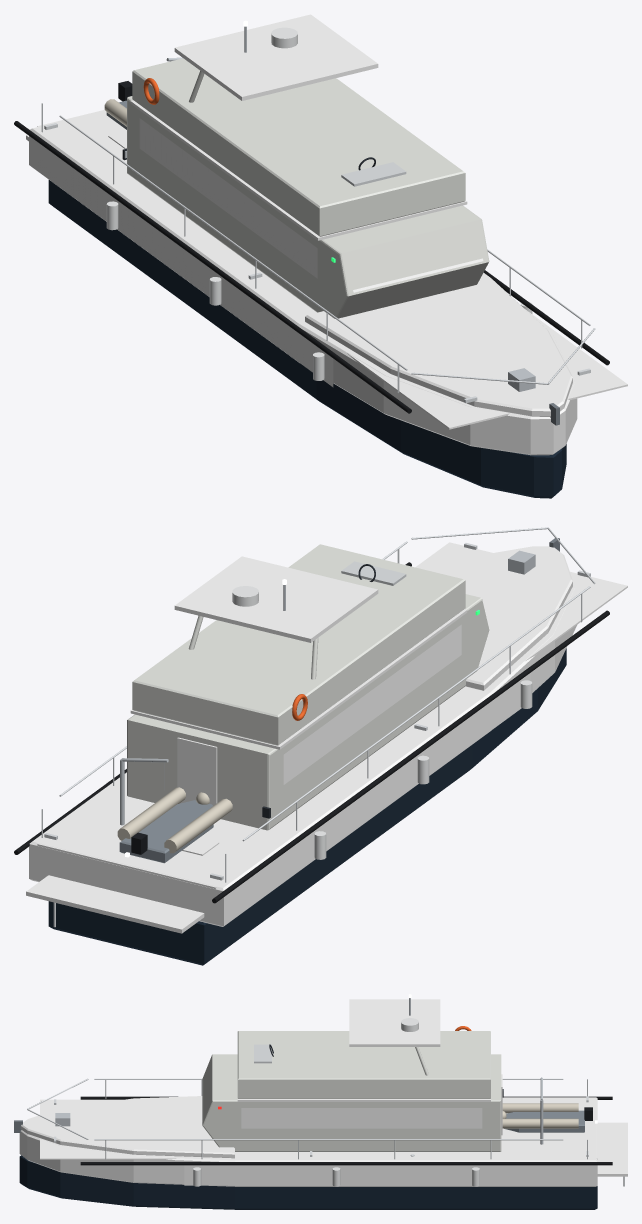
File: fleet--motorYacht.glb
3 renders of one model, top to bottom at view 1: azimuth 30°, elevation 25°; view 2: azimuth 150°, elevation 25°; view 3: azimuth 270°, elevation 25°, orthographic. The views are drawn at different scales.
Visible parts, largest first — view 1: motorYacht:shell, fenders, tender; view 2: motorYacht:shell, tender, saloonDoor, fenders; view 3: motorYacht:shell, tender, fenders.
Boxes of the visible parts, <box> form: motorYacht:shell: <box>14,14,627,498</box>; fenders: <box>106,201,532,380</box>; tender: <box>104,81,132,129</box>; motorYacht:shell: <box>14,527,627,965</box>; tender: <box>117,787,232,863</box>; saloonDoor: <box>177,737,217,805</box>; fenders: <box>106,680,532,859</box>; motorYacht:shell: <box>14,998,627,1209</box>; tender: <box>502,1103,592,1132</box>; fenders: <box>193,1167,479,1186</box>.
Bounding box in the file's own units: 6.7 × 8.01 × 24.22.
